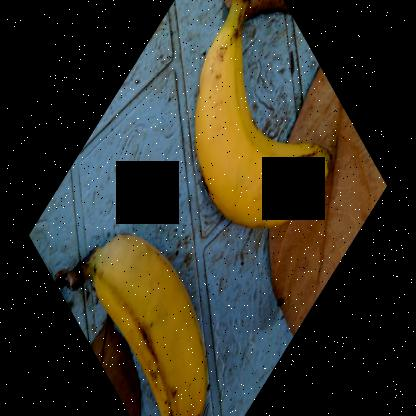freshripe: (173, 1, 322, 238)
ripe: (96, 238, 216, 415)
